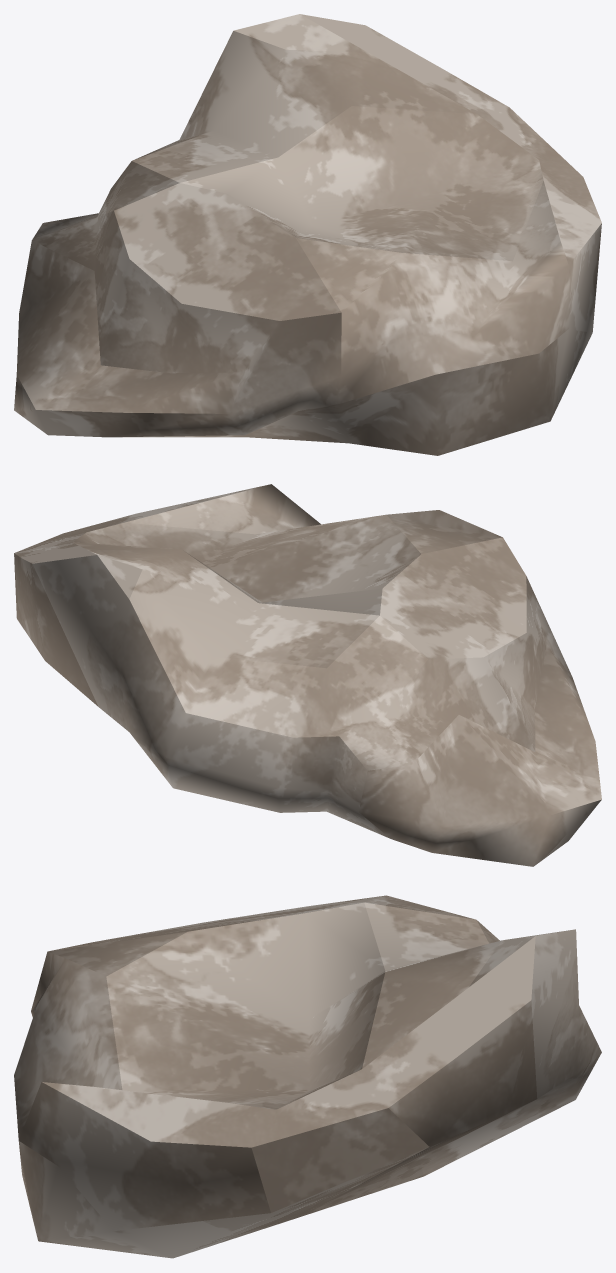
File: Rock_04.fbx
The picture shows the model from 3 angles, top to bottom: view 1: azimuth 30°, elevation 25°; view 2: azimuth 150°, elevation 25°; view 3: azimuth 270°, elevation 25°; orthographic projection. The views are drawn at different scales.
Visible parts, largest first — view 1: pCube1; view 2: pCube1; view 3: pCube1.
Boxes of the visible parts, bbox=[...] form: pCube1: bbox=[14, 14, 601, 455]; pCube1: bbox=[14, 484, 601, 866]; pCube1: bbox=[14, 895, 601, 1258].
Bounding box in the file's own units: 182 × 85.83 × 154.
